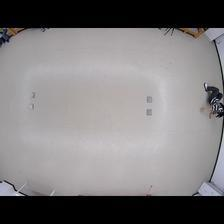fall: (203, 81, 223, 119)
